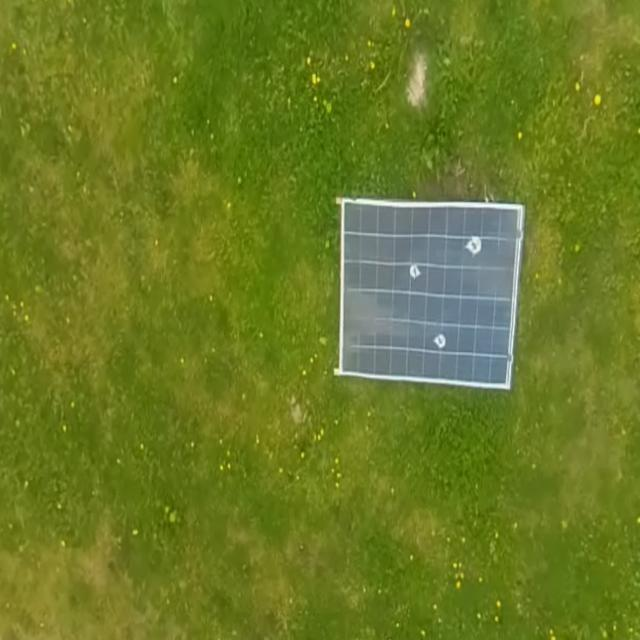faulty: (344, 198, 514, 382)
